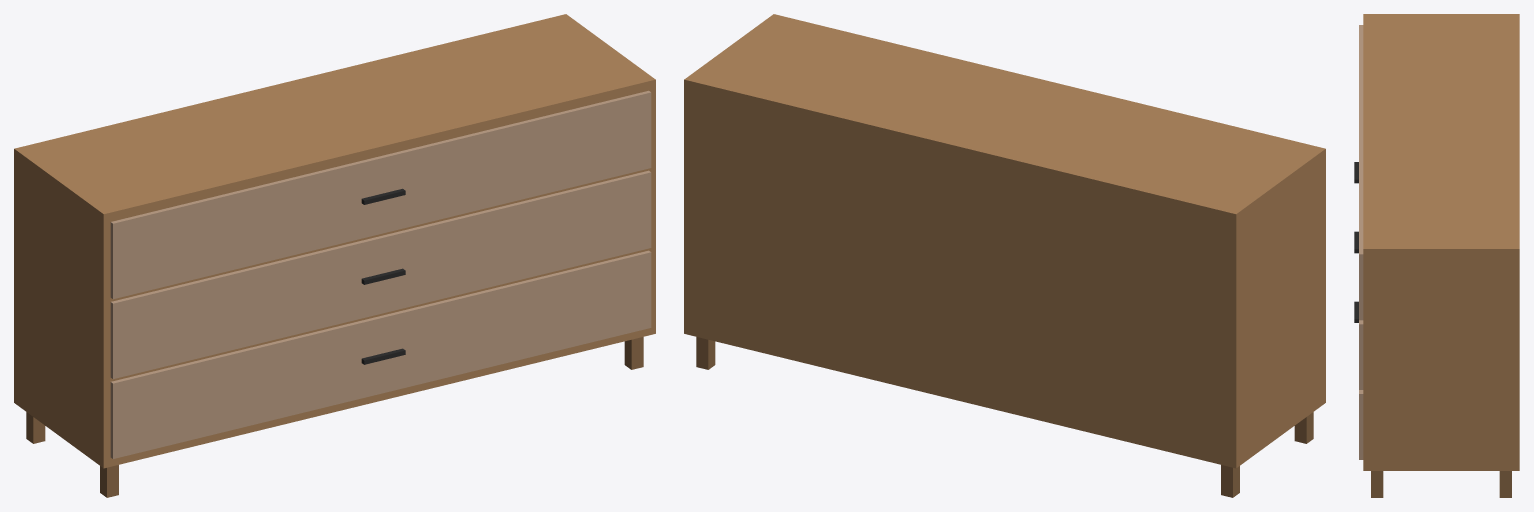
File: buffet-chene-160.glb
3 renders of one model, left to right at view 1: azimuth 30°, elevation 25°; view 2: azimuth 150°, elevation 25°; view 3: azimuth 270°, elevation 25°, orthographic. The views are drawn at different scales.
Parts seen in each view (by area): view 1: produit; view 2: produit; view 3: produit.
Boxes of the visible parts, <box> form: produit: <box>14,14,655,497</box>; produit: <box>684,14,1325,497</box>; produit: <box>1354,14,1519,497</box>.
Bounding box in the file's own units: 1.6 × 0.8 × 0.4755.
